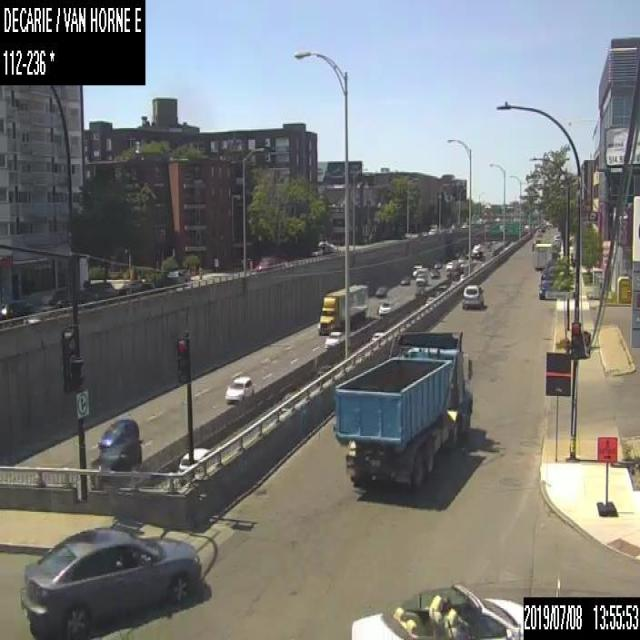construction: (595, 435, 617, 516)
vehicle: (333, 327, 473, 490), (19, 524, 205, 639), (349, 581, 522, 639), (317, 284, 368, 334), (94, 440, 141, 470), (98, 418, 138, 450), (176, 446, 208, 471), (225, 374, 253, 402), (0, 296, 31, 320), (533, 240, 553, 268), (461, 283, 482, 308), (253, 254, 281, 270), (537, 279, 556, 299), (323, 331, 342, 348), (166, 270, 186, 283), (414, 266, 428, 284), (378, 300, 390, 314), (412, 260, 421, 276), (413, 284, 423, 297), (375, 286, 385, 297), (471, 243, 479, 256), (312, 246, 322, 256), (552, 234, 561, 245), (430, 268, 439, 277), (400, 275, 409, 284), (433, 261, 441, 268), (428, 228, 435, 235), (446, 261, 452, 269)
